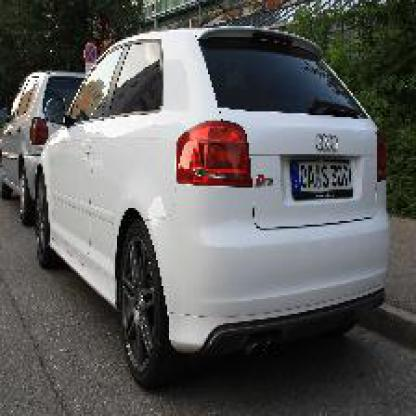not_emergency: (30, 26, 397, 379)
